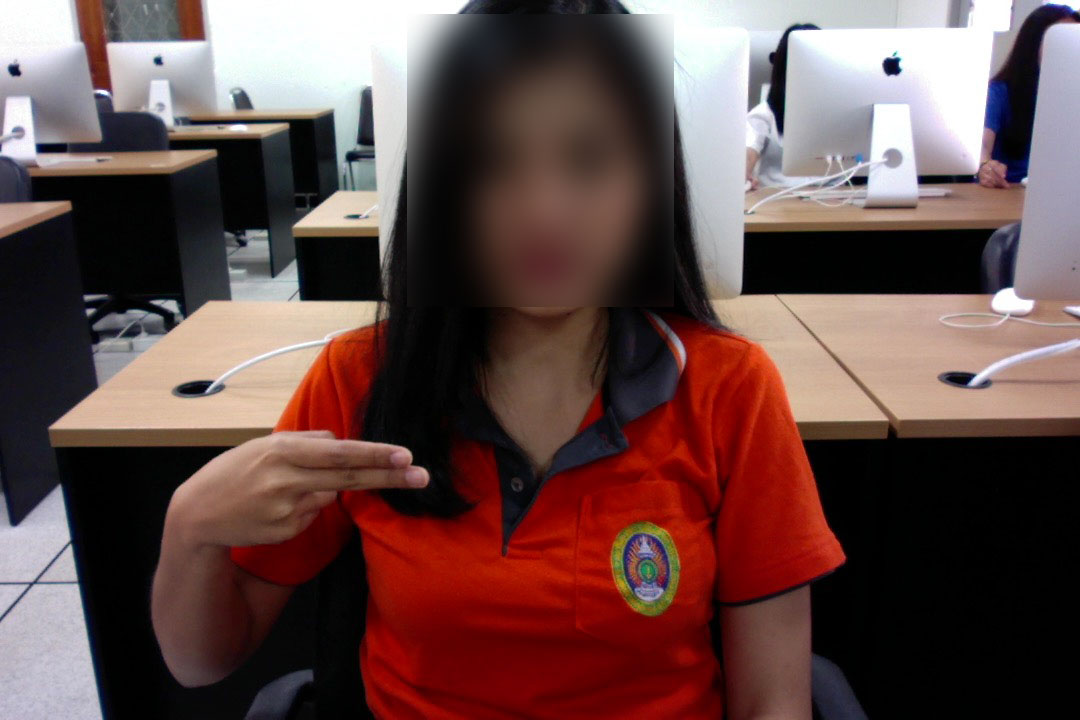hor: (164, 422, 445, 551)
